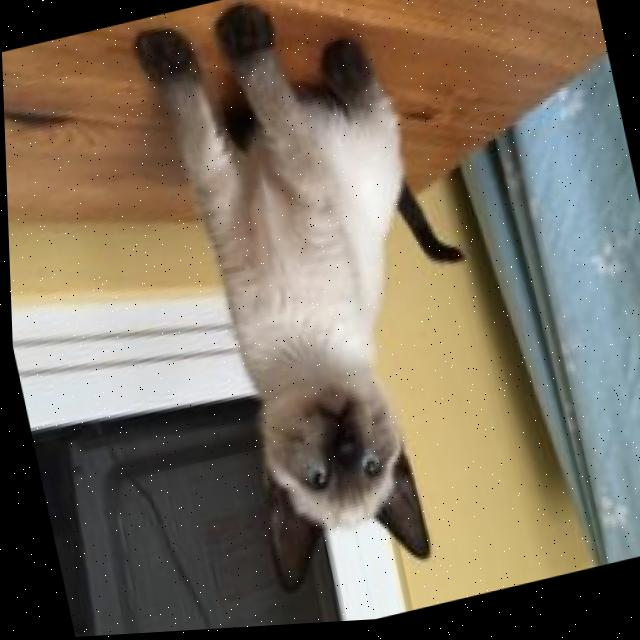Siamese: (126, 0, 528, 619)
